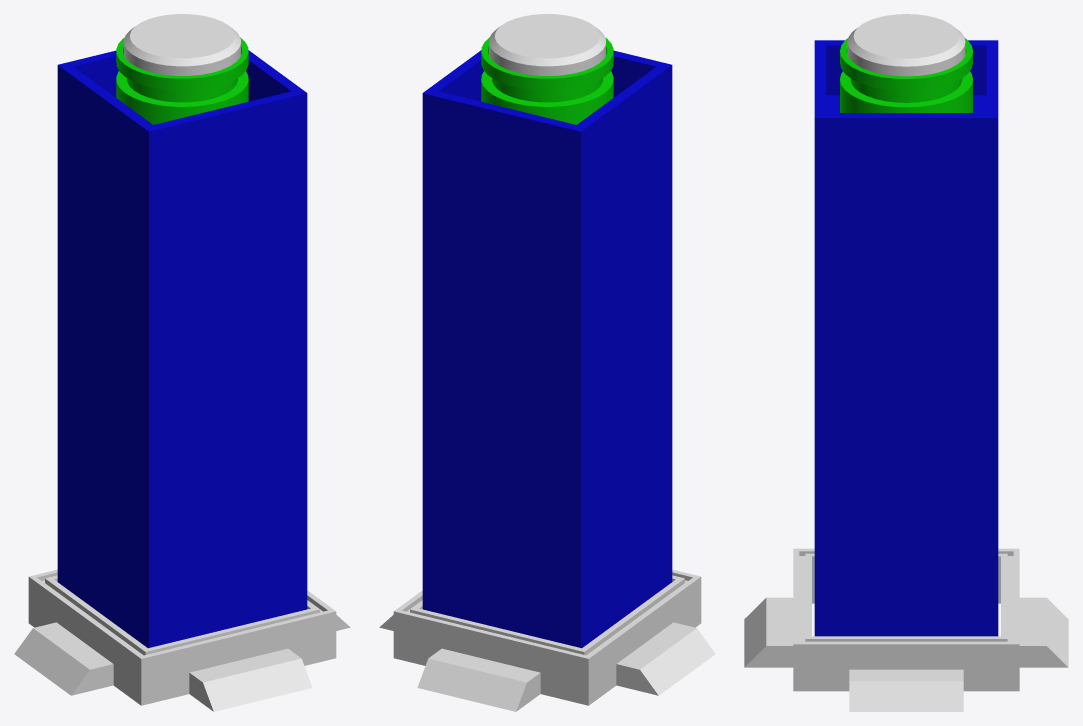
The model's file is ApertureSwitch.fbx.
3 renders of one model, left to right at view 1: azimuth 30°, elevation 25°; view 2: azimuth 150°, elevation 25°; view 3: azimuth 270°, elevation 25°, orthographic.
Visible parts, largest first — view 1: SwitchCase, SwitchBottom, Switch; view 2: SwitchCase, SwitchBottom, Switch; view 3: SwitchCase, SwitchBottom, Switch.
Boxes of the visible parts, bbox=[...] form: SwitchCase: bbox=[57, 37, 307, 648]; SwitchBottom: bbox=[14, 569, 350, 711]; Switch: bbox=[124, 14, 240, 75]; SwitchCase: bbox=[422, 37, 672, 648]; SwitchBottom: bbox=[379, 569, 715, 711]; Switch: bbox=[489, 14, 605, 75]; SwitchCase: bbox=[814, 38, 998, 636]; SwitchBottom: bbox=[744, 548, 1068, 711]; Switch: bbox=[847, 14, 965, 76].
Size of the model in its own units: 62.46 by 129 by 62.46.
